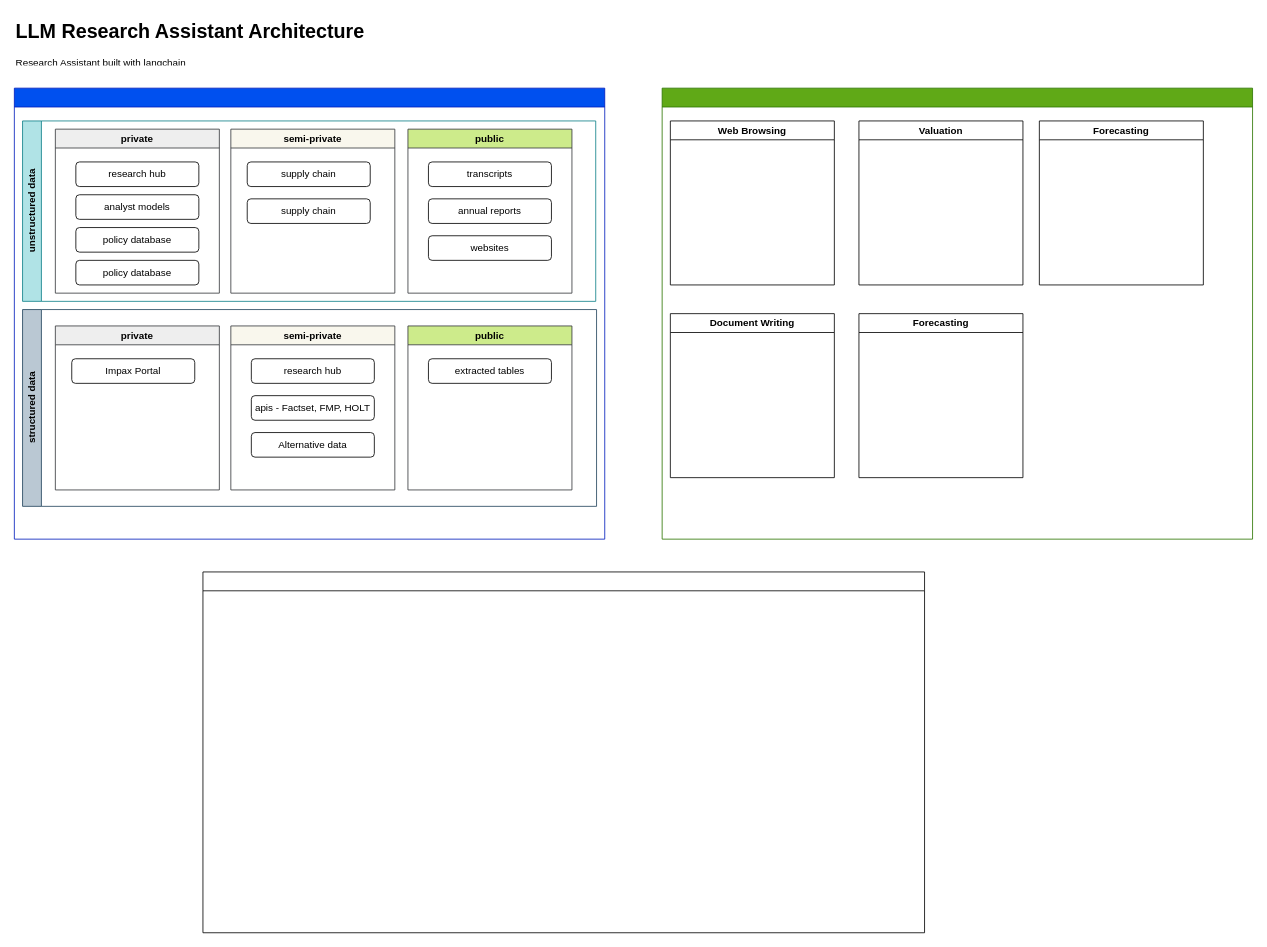
The diagram is 1267 pixels wide and 947 high, and some of its shapes have lost their labels. Here are the shapes that lost their labels. From the top down, the box of each, then its label:
(14, 87, 605, 539): information retrievers
(661, 87, 1253, 539): Tools
(202, 571, 925, 933): Agent Teams
